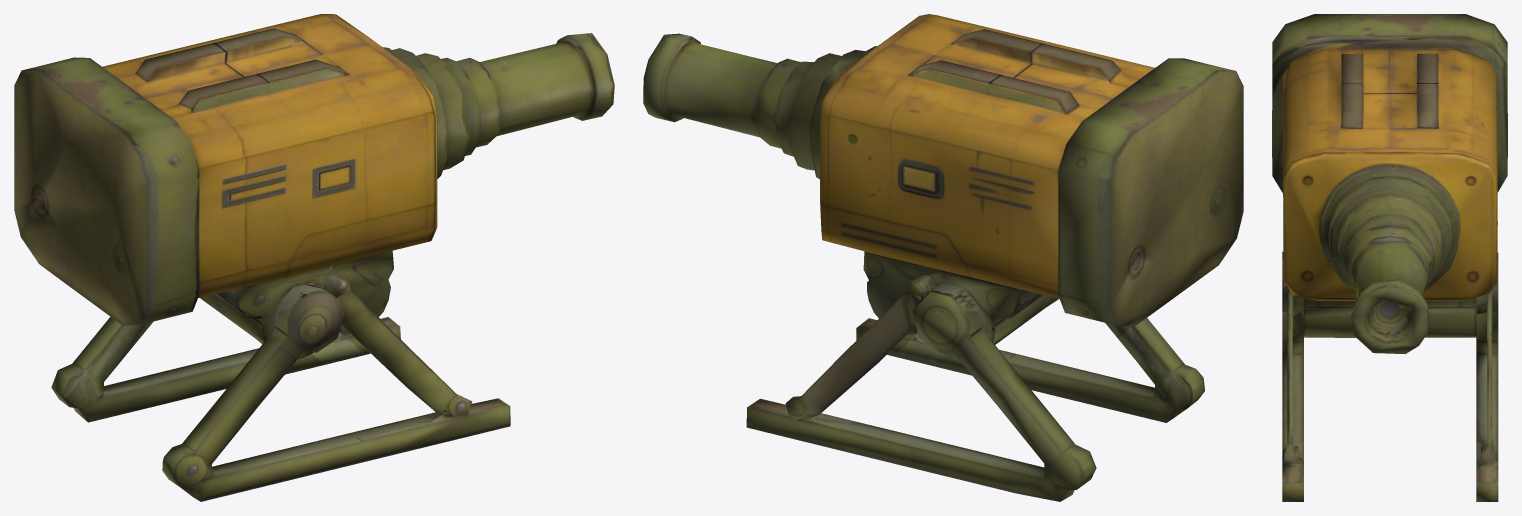
The model's file is Steampunk_Sentinel_0408235342_texture.glb.
3 renders of one model, left to right at view 1: azimuth 30°, elevation 25°; view 2: azimuth 150°, elevation 25°; view 3: azimuth 270°, elevation 25°, orthographic. The views are drawn at different scales.
Visible parts, largest first — view 1: Mesh1; view 2: Mesh1; view 3: Mesh1.
Boxes of the visible parts, x1,y1,x2,y2 form: Mesh1: (14,14,614,501); Mesh1: (643,14,1243,501); Mesh1: (1272,14,1507,501).
Bounding box in the file's own units: 2 × 1.38 × 0.8997.
1 material, 1 textured.
